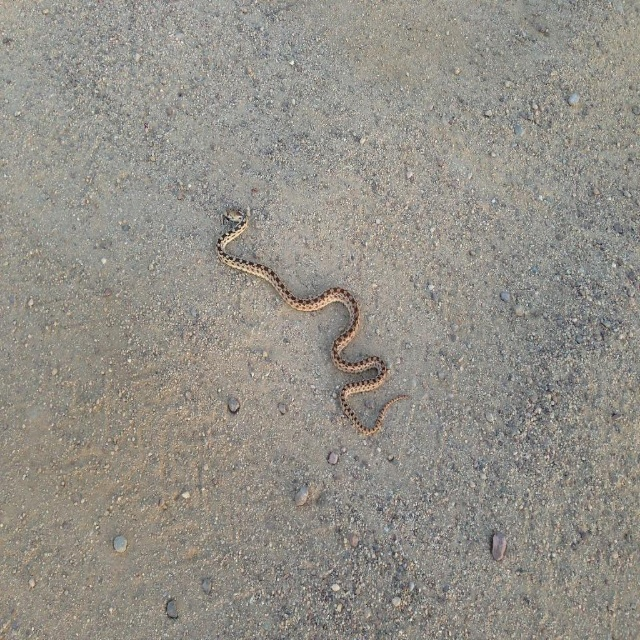Snake: (218, 209, 408, 433)
